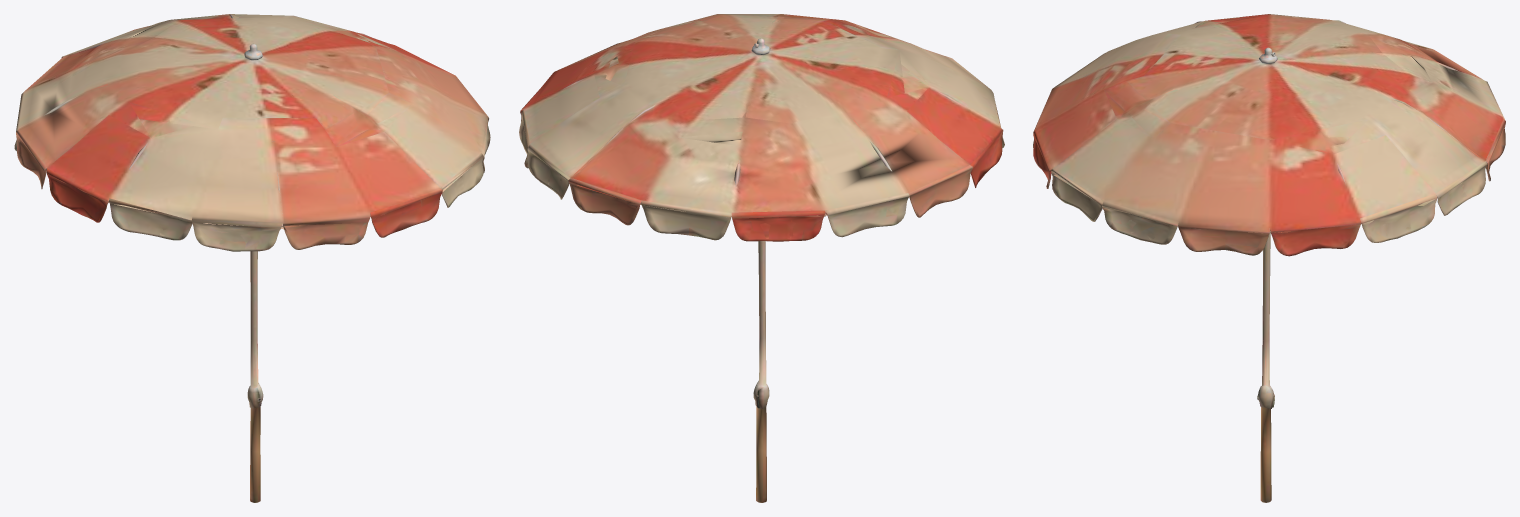
Rendered from beach-umbrella.glb.
3 views of the same model, side by side, from view 1: azimuth 30°, elevation 25°; view 2: azimuth 150°, elevation 25°; view 3: azimuth 270°, elevation 25° (orthographic). The views are drawn at different scales.
Parts seen in each view (by area): view 1: tripo_node_63092ad9-a3ba-42fe-acaa-0aff499592cb; view 2: tripo_node_63092ad9-a3ba-42fe-acaa-0aff499592cb; view 3: tripo_node_63092ad9-a3ba-42fe-acaa-0aff499592cb.
Part boxes in pixels (x1,y1,x2,y2): tripo_node_63092ad9-a3ba-42fe-acaa-0aff499592cb: [14, 14, 490, 502]; tripo_node_63092ad9-a3ba-42fe-acaa-0aff499592cb: [519, 14, 1004, 502]; tripo_node_63092ad9-a3ba-42fe-acaa-0aff499592cb: [1033, 14, 1505, 502].
Bounding box in the file's own units: 1.9 × 2 × 1.89.
Materials: 1 (1 with a texture image).
